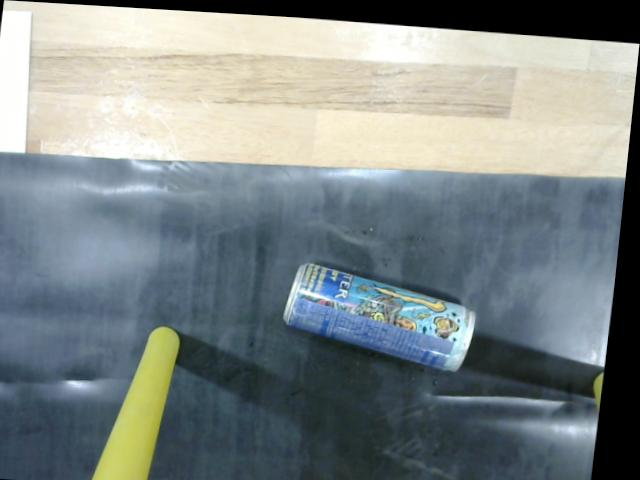can: (277, 243, 493, 377)
